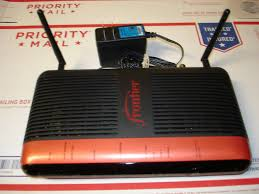Verizon Router: (11, 51, 259, 193)
